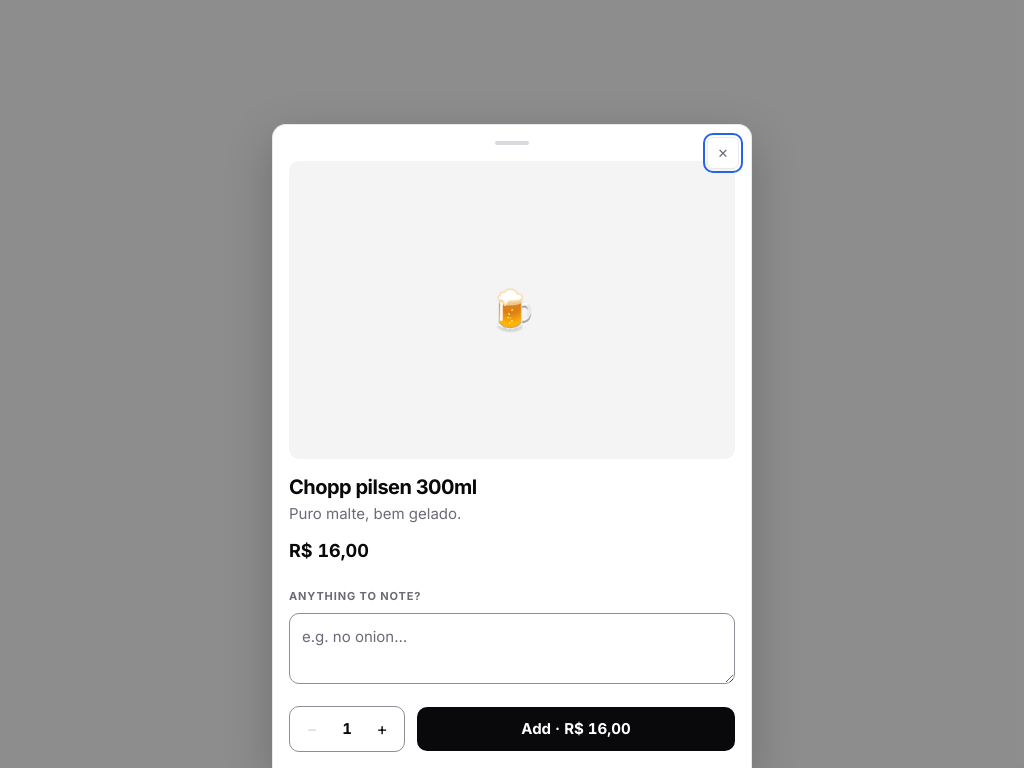
Scenario: ItemSheet › updates the total as the quantity goes up
Click the button named "Increase quantity": (382, 729) [360,707,404,751]
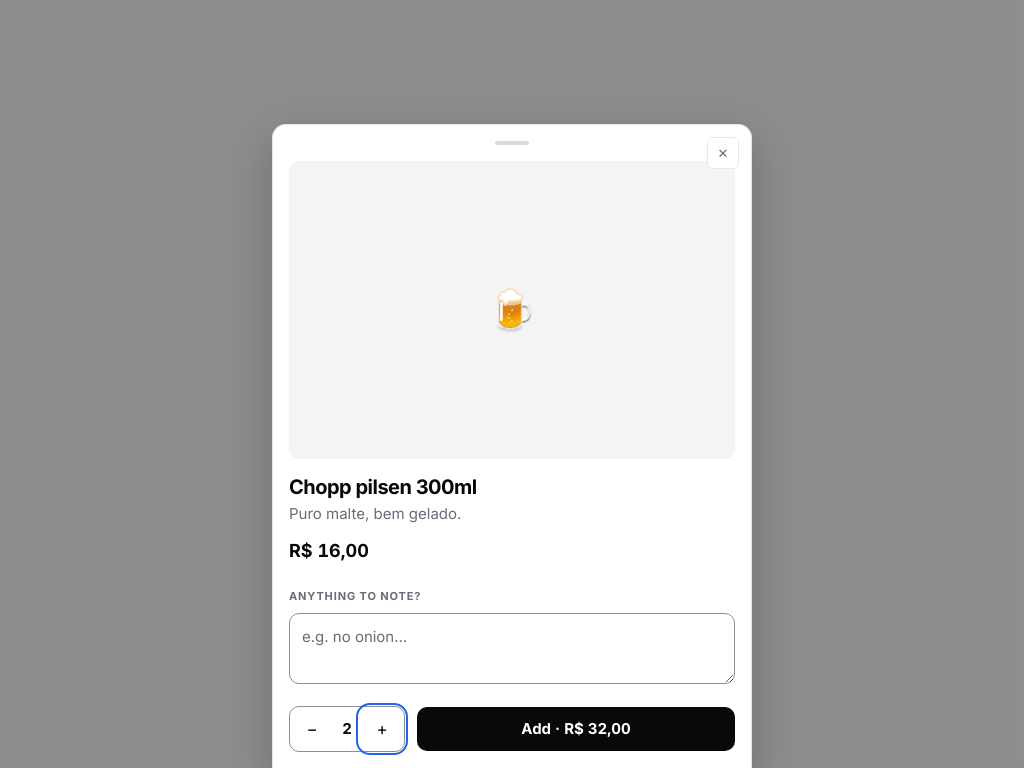
Click the button named "Increase quantity": (382, 729) [360,707,404,751]
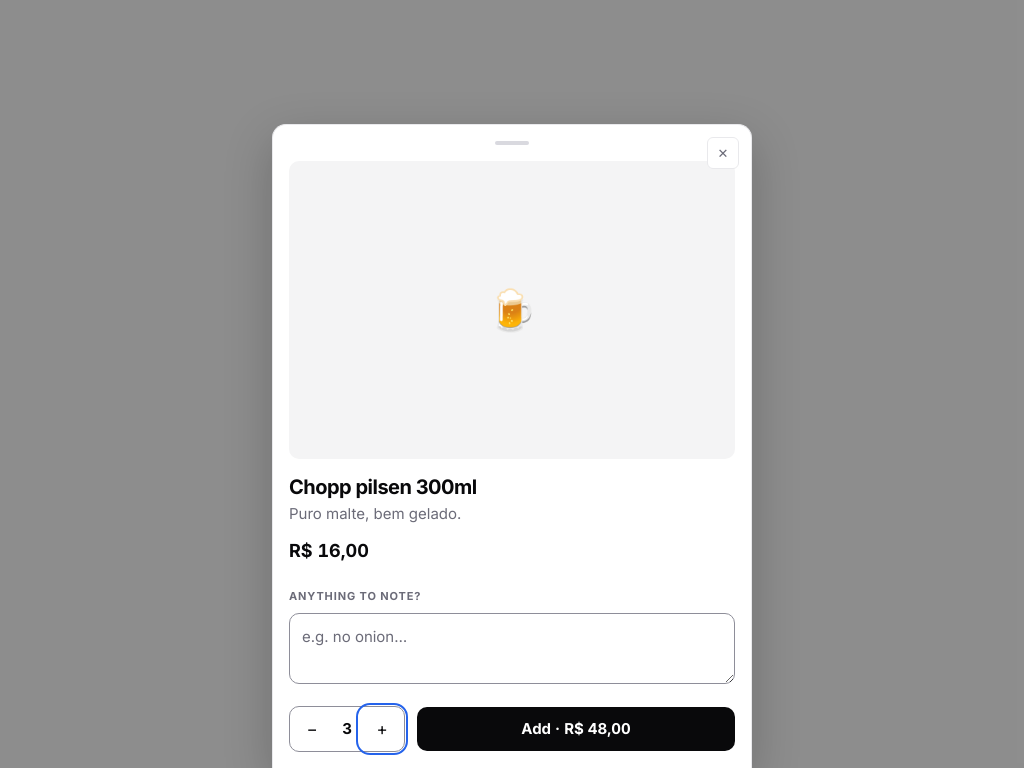
Now the button "Add · R$ 48,00" is shown, box [417,707,735,751]
